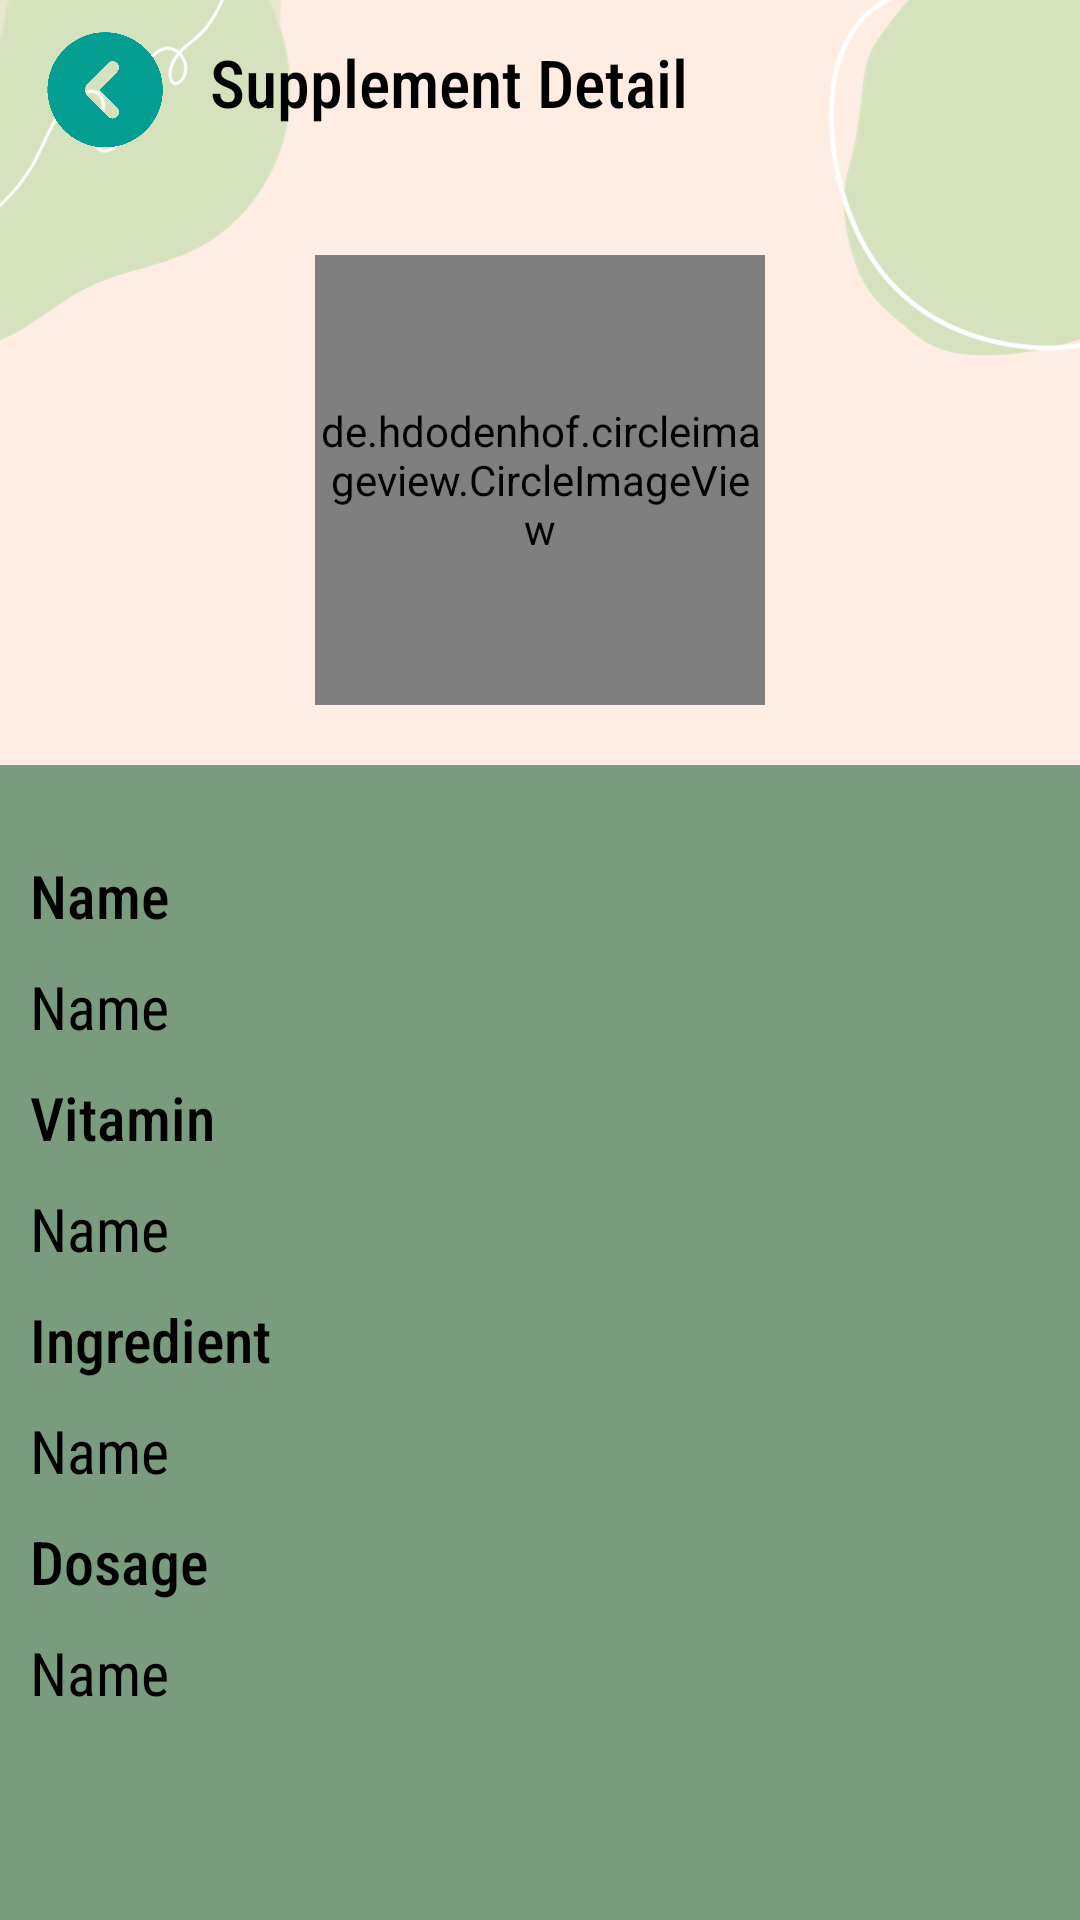

Icons on this 1080px×1920px Android screen, each with the point to tap as (x=x, y=y):
backicon: (x=105, y=91)
